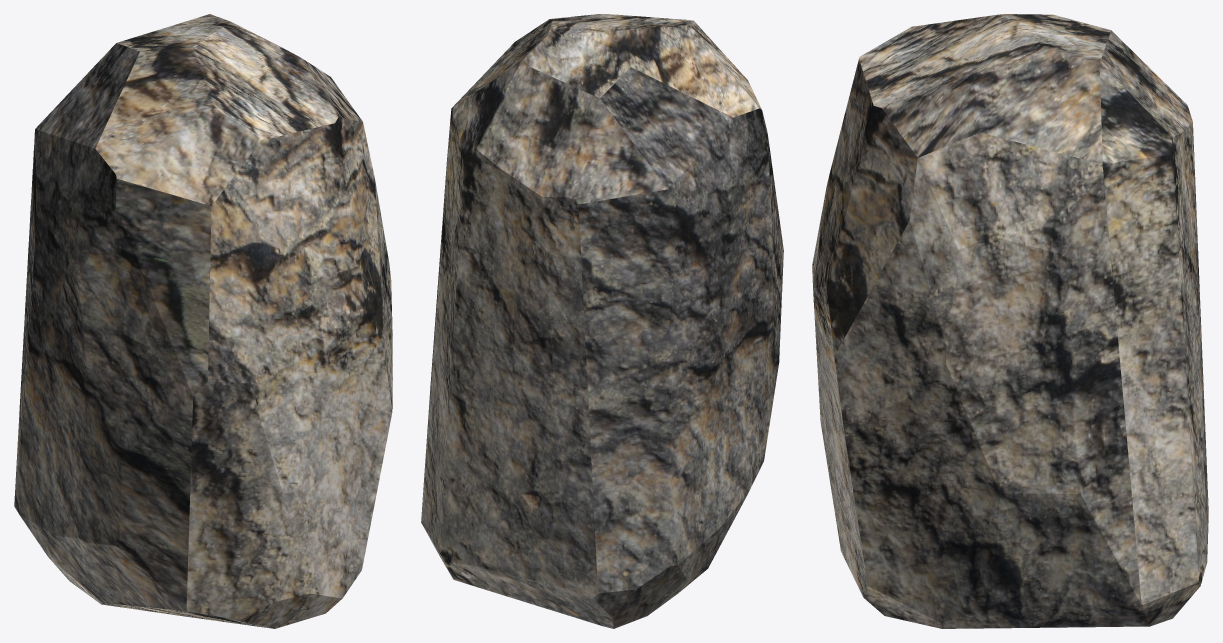
The model's file is pedraMaior.fbx.
3 renders of one model, left to right at view 1: azimuth 30°, elevation 25°; view 2: azimuth 150°, elevation 25°; view 3: azimuth 270°, elevation 25°, orthographic. The views are drawn at different scales.
Parts seen in each view (by area): view 1: Cube; view 2: Cube; view 3: Cube.
Boxes of the visible parts, left/top/right/bottom form: Cube: left=14, top=14, right=392, bottom=628; Cube: left=421, top=14, right=783, bottom=628; Cube: left=812, top=14, right=1208, bottom=628.
Size of the model in its own units: 460 by 801 by 502.
1 material, 1 textured.
